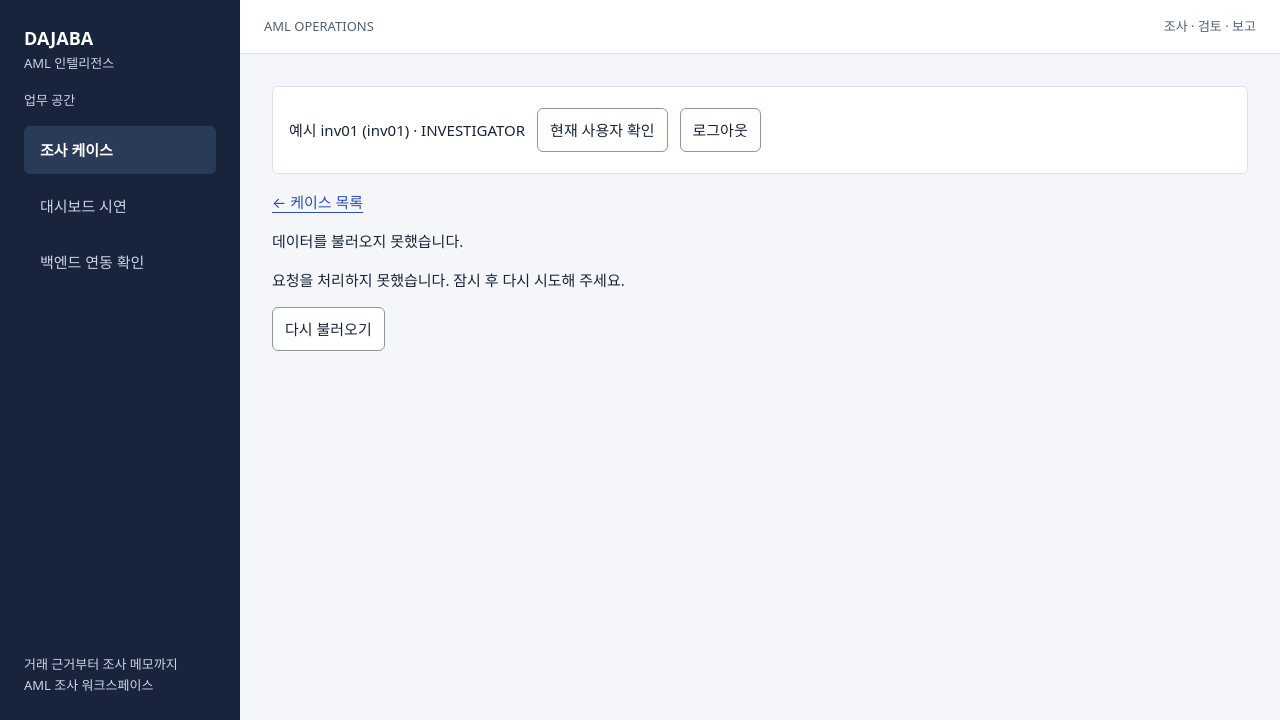
케이스 조사 › 상세 조회 오류에서 다시 불러올 수 있다
What coordinates should you click on to do the following:
click the button "다시 불러오기"
I would click on:
 (328, 329)
Its box is [272,307,385,351].
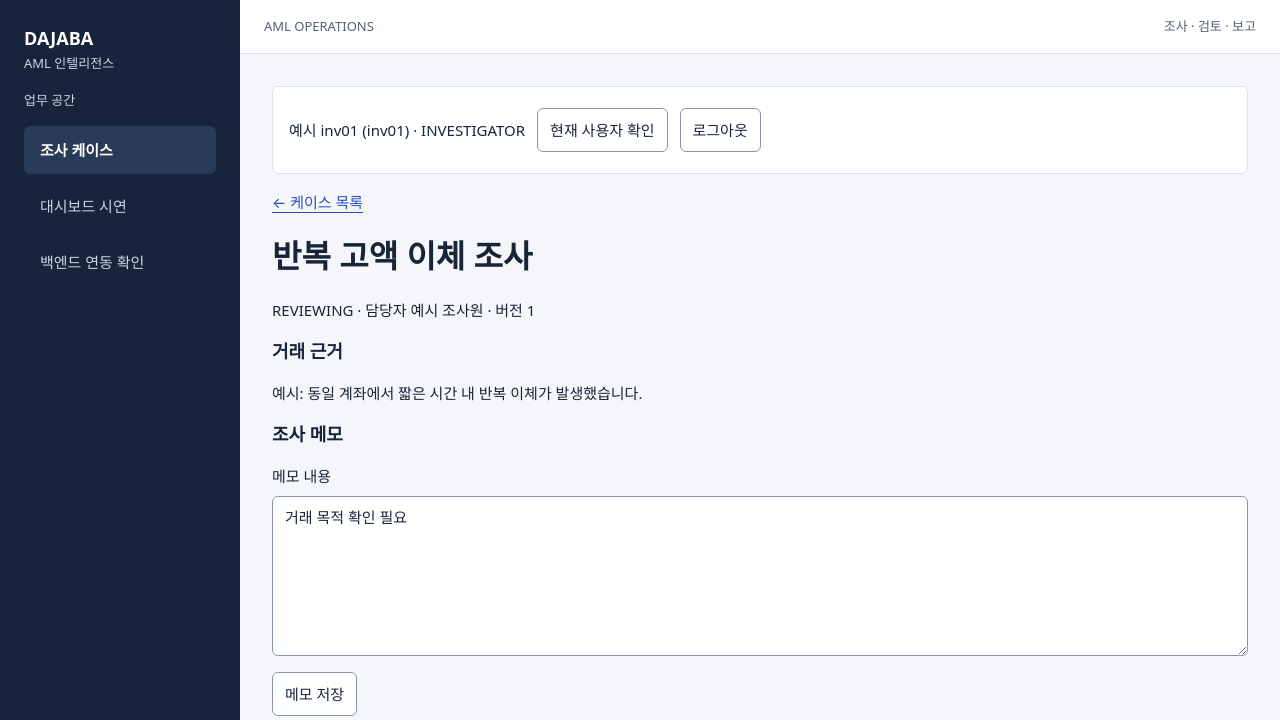
Now the heading "반복 고액 이체 조사" is shown, box [272,234,532,277]
